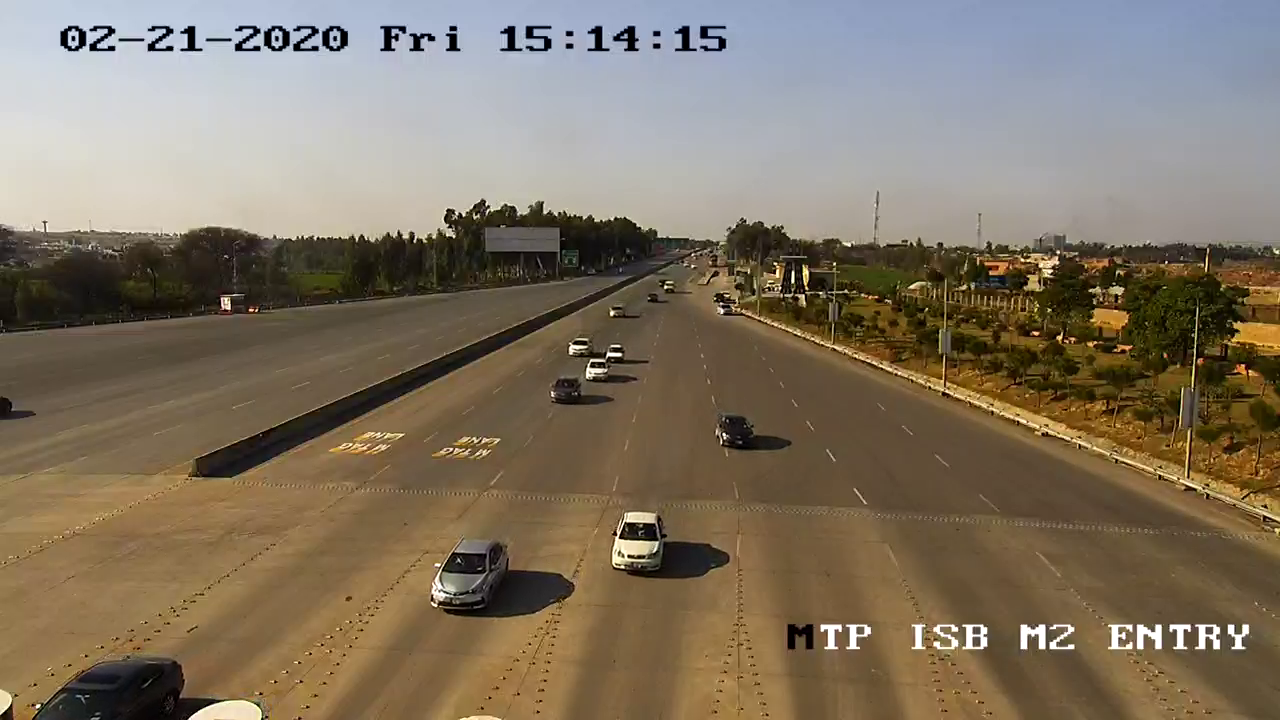f1: (418, 531, 521, 618), (602, 503, 678, 584)
